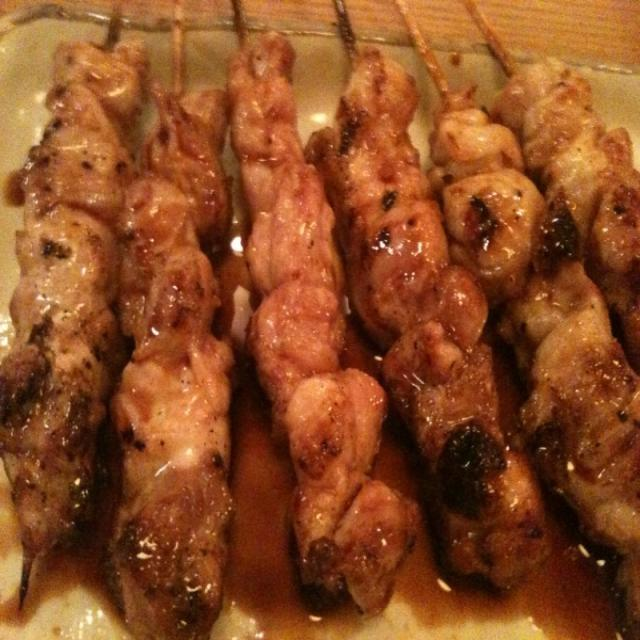烧串烤肉: (0, 0, 640, 636)
